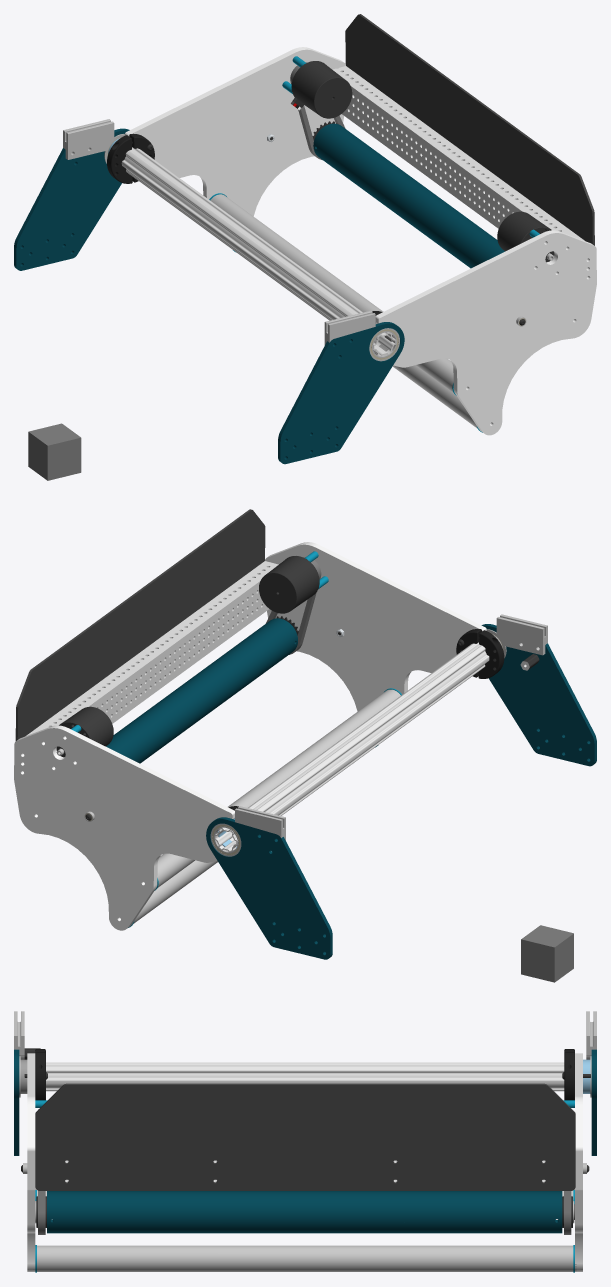
3 views of the same model, one above another, from view 1: azimuth 30°, elevation 25°; view 2: azimuth 150°, elevation 25°; view 3: azimuth 270°, elevation 25° (orthographic). The views are drawn at different scales.
Visible parts, largest first — view 1: Intake plate (×2), Intake support (×2), intake front plate, 2" x 1" x 0.125" Aluminum Box Tube (25.5" L, Full Pattern, 0, Right Sleeve (×3), MAXSpline (27.5" L), 1.25in roller (×2), NEO Brushless Motor V1.1 (×2), Origin Cube, Part 2, Part 1, REV-21-2581; view 2: Intake plate (×2), Intake support (×2), intake front plate, 2" x 1" x 0.125" Aluminum Box Tube (25.5" L, Full Pattern, 0, Right Sleeve (×2), MAXSpline (27.5" L), 1.25in roller (×2), NEO Brushless Motor V1.1 (×2), Origin Cube, Part 1, Part 2, REV-21-2581; view 3: intake front plate, Right Sleeve (×3), 1.25in roller, MAXSpline (27.5" L), Intake plate (×2), Intake support (×2), REV-21-2581 (×2), Part 2, Part 1.
Boxes of the visible parts, x1=… form: Intake plate (×2): x1=124, y1=47, x2=596, y2=435; Intake support (×2): x1=14, y1=128, x2=404, y2=464; intake front plate: x1=345, y1=14, x2=594, y2=245; 2" x 1" x 0.125" Aluminum Box Tube (25.5" L, Full Pattern, 0: x1=332, y1=66, x2=584, y2=240; Right Sleeve (×3): x1=313, y1=123, x2=504, y2=268; MAXSpline (27.5" L): x1=121, y1=147, x2=396, y2=356; 1.25in roller (×2): x1=210, y1=194, x2=477, y2=428; NEO Brushless Motor V1.1 (×2): x1=291, y1=61, x2=554, y2=260; Origin Cube: x1=28, y1=423, x2=81, y2=480; Part 2: x1=63, y1=119, x2=114, y2=159; Part 1: x1=324, y1=310, x2=375, y2=345; REV-21-2581: x1=107, y1=135, x2=132, y2=183; Intake plate (×2): x1=14, y1=542, x2=486, y2=930; Intake support (×2): x1=206, y1=624, x2=596, y2=959; intake front plate: x1=15, y1=509, x2=265, y2=740; 2" x 1" x 0.125" Aluminum Box Tube (25.5" L, Full Pattern, 0: x1=26, y1=561, x2=278, y2=735; Right Sleeve (×2): x1=112, y1=618, x2=297, y2=763; MAXSpline (27.5" L): x1=214, y1=642, x2=489, y2=852; 1.25in roller (×2): x1=133, y1=689, x2=400, y2=923; NEO Brushless Motor V1.1 (×2): x1=56, y1=556, x2=319, y2=755; Origin Cube: x1=521, y1=925, x2=573, y2=982; Part 1: x1=496, y1=614, x2=547, y2=655; Part 2: x1=235, y1=806, x2=285, y2=840; REV-21-2581: x1=478, y1=630, x2=504, y2=678; intake front plate: x1=35, y1=1083, x2=575, y2=1190; Right Sleeve (×3): x1=47, y1=1191, x2=562, y2=1233; 1.25in roller: x1=37, y1=1245, x2=576, y2=1271; MAXSpline (27.5" L): x1=46, y1=1062, x2=564, y2=1091; Intake plate (×2): x1=27, y1=1053, x2=582, y2=1271; Intake support (×2): x1=14, y1=1049, x2=596, y2=1155; REV-21-2581 (×2): x1=35, y1=1052, x2=574, y2=1100; Part 2: x1=586, y1=1011, x2=596, y2=1059; Part 1: x1=14, y1=1011, x2=24, y2=1059.
Bounding box in the file's own units: 0.6501 × 0.4022 × 0.6986.
